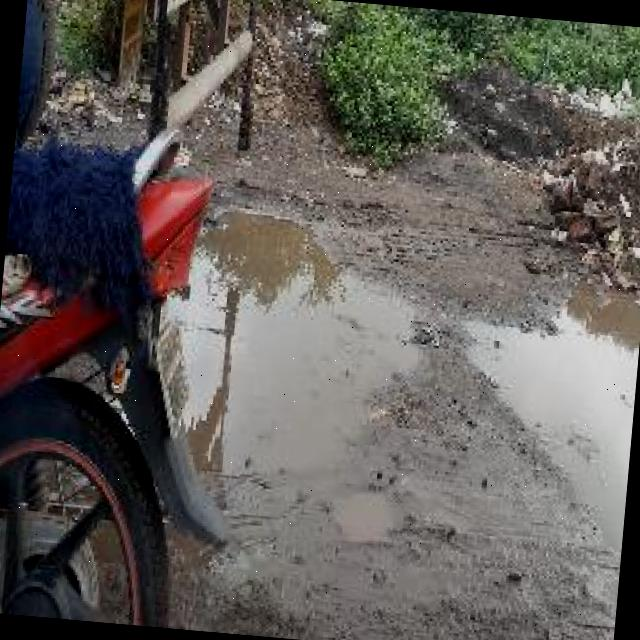waterlogging: (144, 181, 416, 505), (430, 246, 640, 543)
